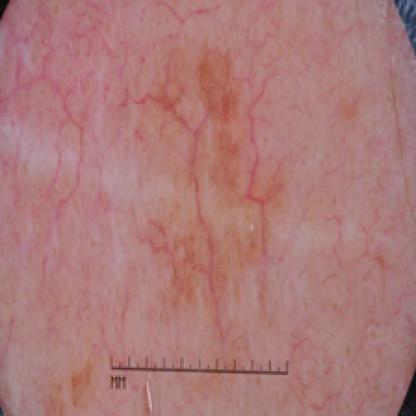malignant: (143, 41, 288, 301)
